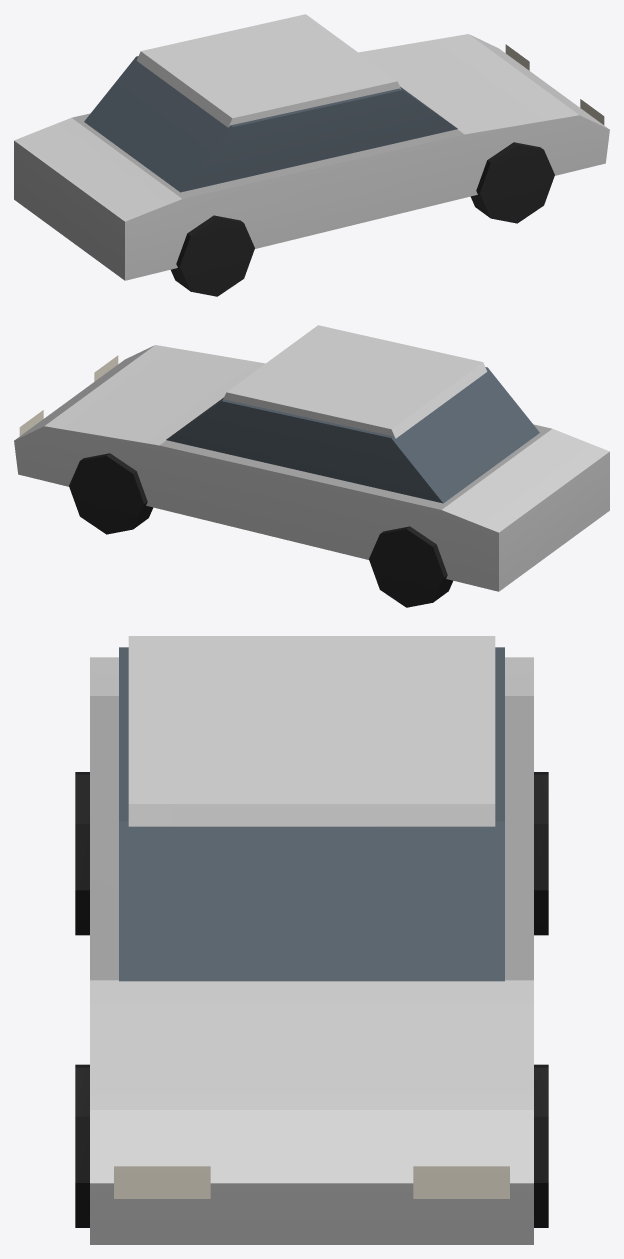
File: voiture.glb
3 renders of one model, top to bottom at view 1: azimuth 30°, elevation 25°; view 2: azimuth 150°, elevation 25°; view 3: azimuth 270°, elevation 25°, orthographic. The views are drawn at different scales.
Parts seen in each view (by area): view 1: voiture; view 2: voiture; view 3: voiture.
Part boxes in pixels (x1,y1,x2,y2): voiture: [14, 14, 609, 296]; voiture: [14, 325, 609, 607]; voiture: [75, 636, 548, 1244].
Bounding box in the file's own units: 4.64 × 1.48 × 1.96.
